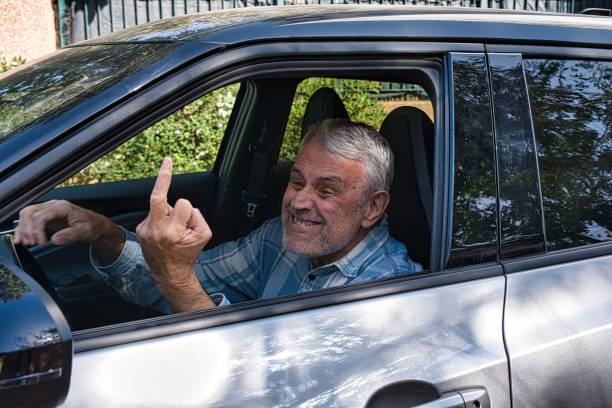insulting_gesture: (138, 157, 211, 271)
